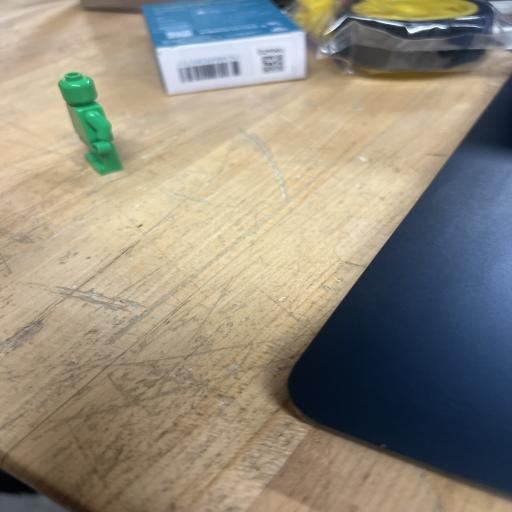green-lego-minifigure-detector: (58, 71, 122, 174)
